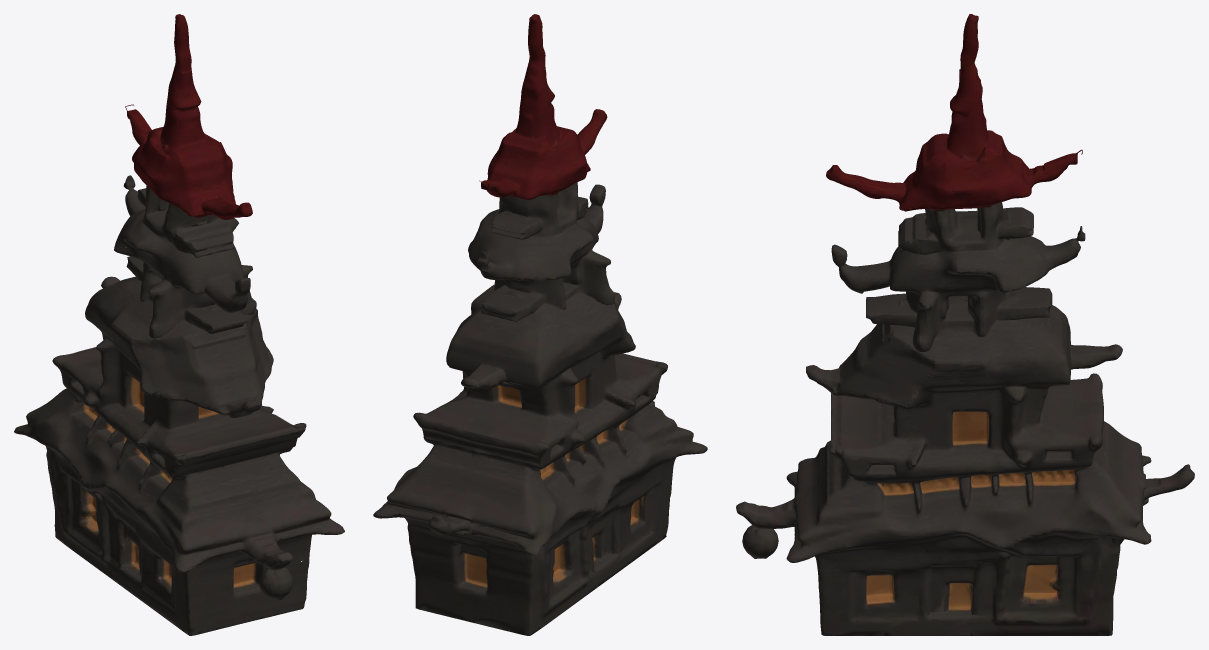
Rendered from pagoda.glb.
The picture shows the model from 3 angles, left to right: view 1: azimuth 30°, elevation 25°; view 2: azimuth 150°, elevation 25°; view 3: azimuth 270°, elevation 25°; orthographic projection. The views are drawn at different scales.
Parts seen in each view (by area): view 1: tripo_node_bc37bd27-9546-4553-a82c-38eea80a7773; view 2: tripo_node_bc37bd27-9546-4553-a82c-38eea80a7773; view 3: tripo_node_bc37bd27-9546-4553-a82c-38eea80a7773.
Boxes of the visible parts, <box> form: tripo_node_bc37bd27-9546-4553-a82c-38eea80a7773: <box>14,14,344,635</box>; tripo_node_bc37bd27-9546-4553-a82c-38eea80a7773: <box>373,14,707,635</box>; tripo_node_bc37bd27-9546-4553-a82c-38eea80a7773: <box>736,14,1194,635</box>.
Bounding box in the file's own units: 0.3094 × 0.9794 × 0.6875.
1 material, 1 textured.
